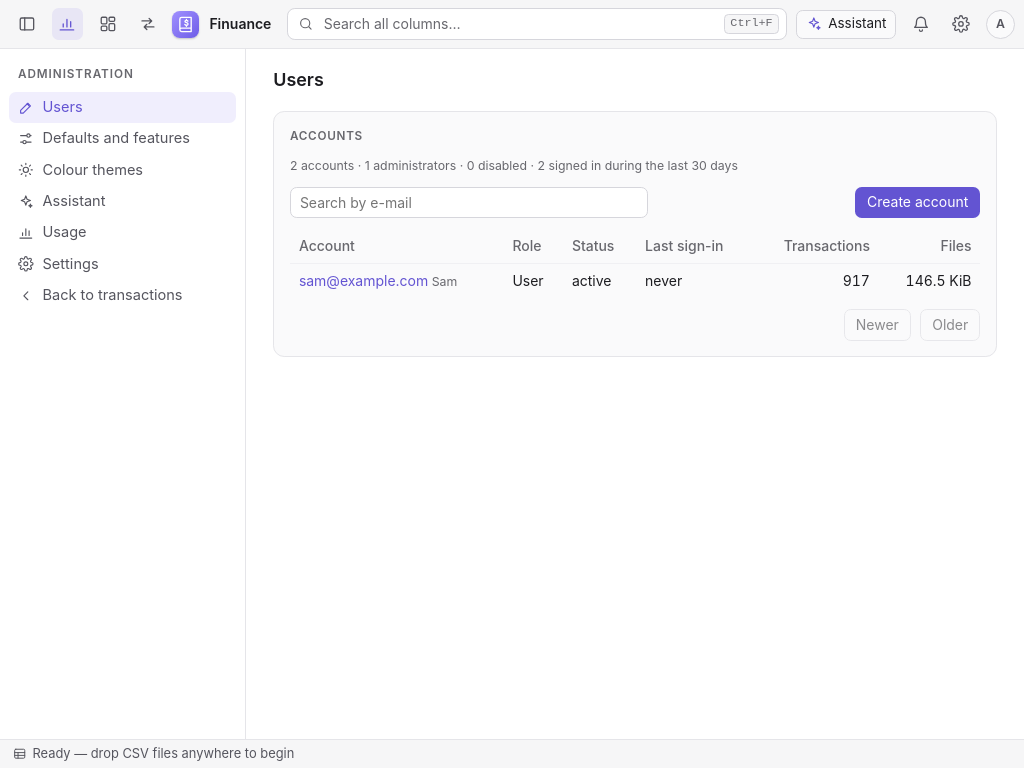
administration › lists accounts with counts, creates one with a one-time password
Check: the text "917" is shown, box [753,263,879,298]
Check: the text "2 accounts · 1 administrators" is shown, box [290,158,738,173]
Click the button "Create account" at x=918, y=202, box [855,187,980,218]
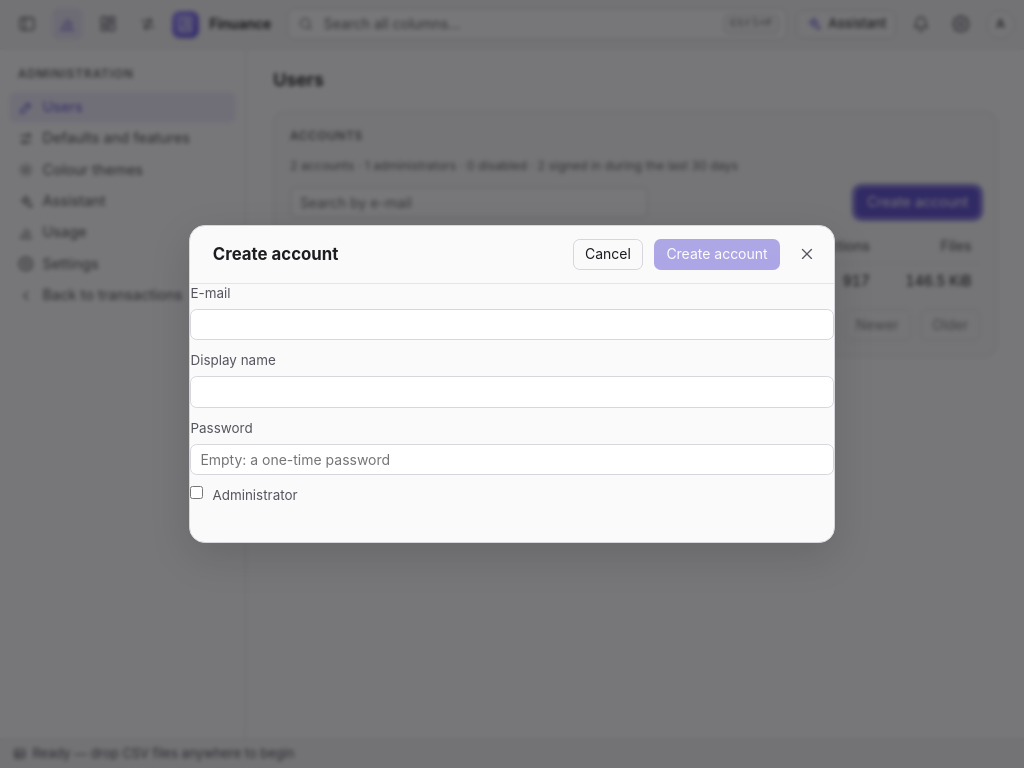
Type "new@example.com" into the field labelled "E-mail" at x=512, y=324, box [190,309,834,340]
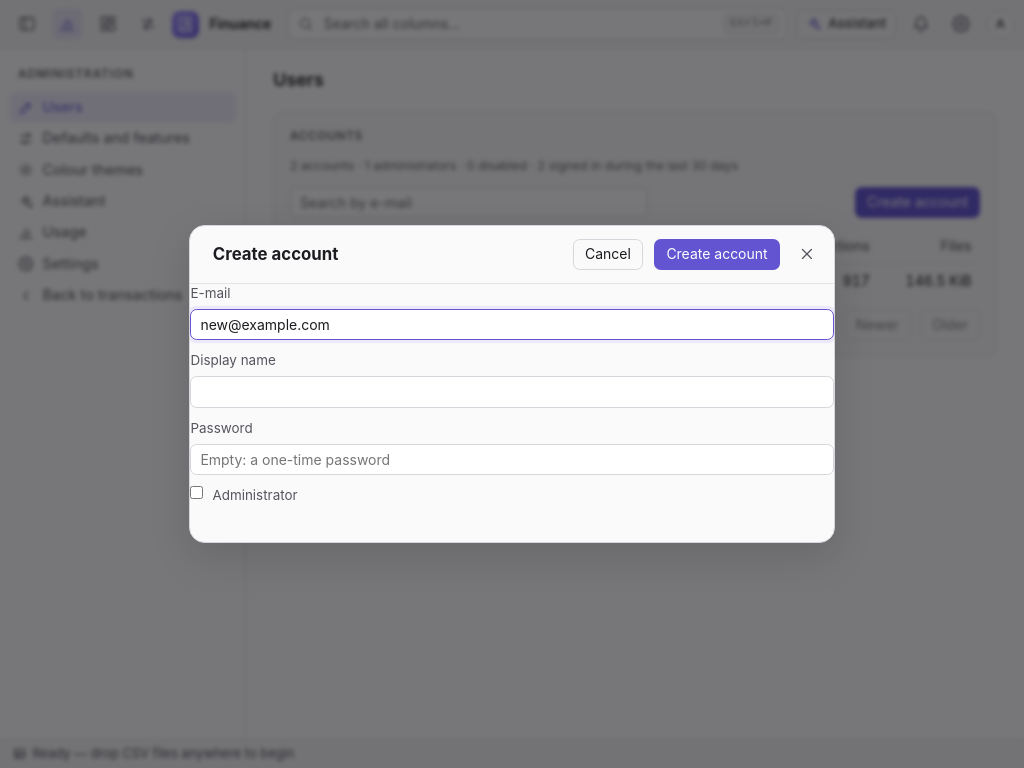
Click the button "Create account" at x=717, y=254, box [654,239,780,270]
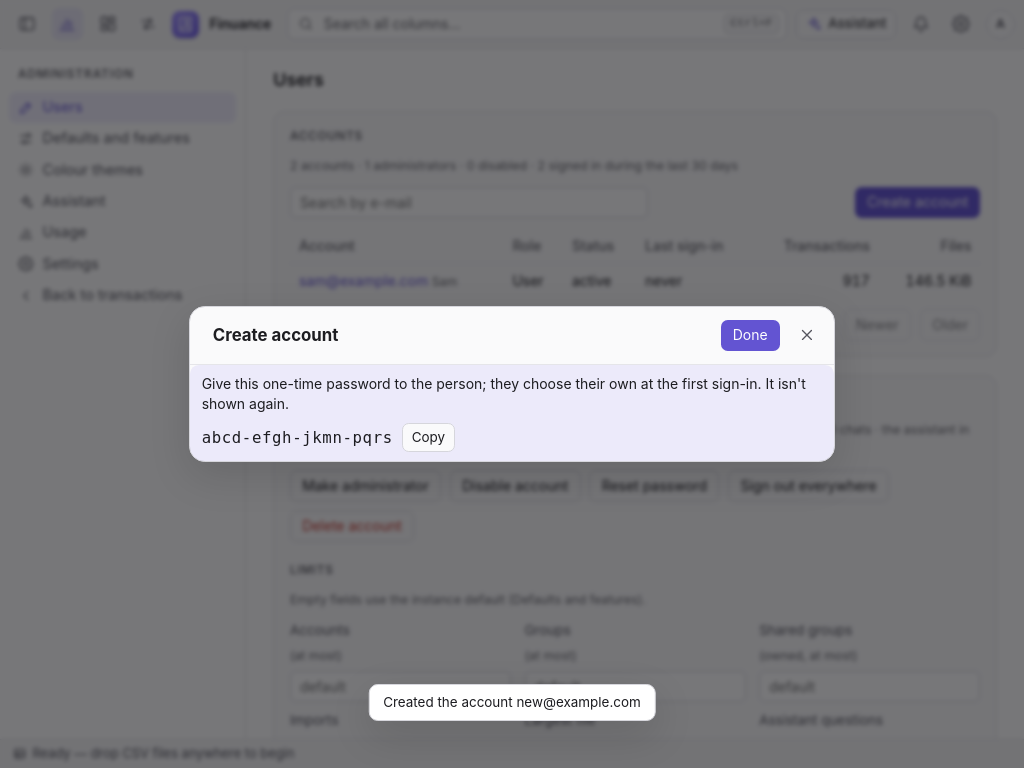
Check: the button "sam@example.com" is shown, box [299,271,428,291]
Check: the text "abcd-efgh-jkmn-pqrs" is shown, box [202,426,393,449]
